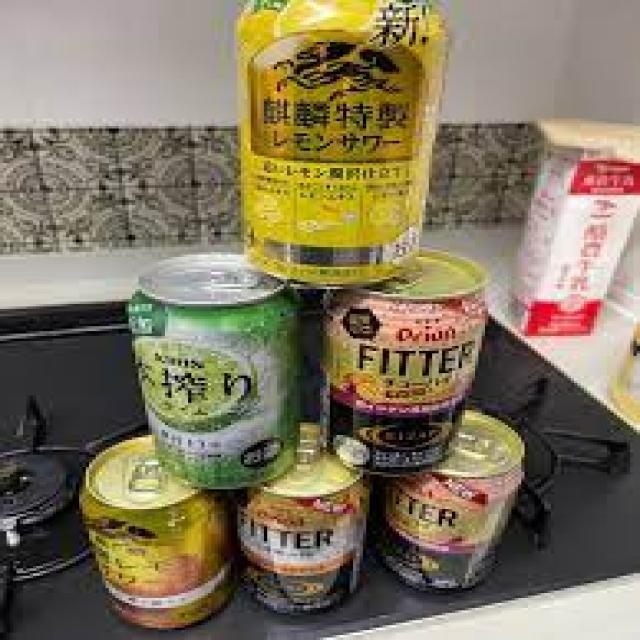Cans: (227, 3, 448, 284), (125, 252, 304, 489), (323, 249, 495, 477), (79, 438, 228, 632), (386, 410, 531, 593), (241, 455, 366, 620)
